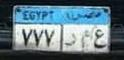7: (44, 28, 57, 48), (33, 28, 44, 48), (22, 26, 32, 47)
ain: (93, 28, 107, 50)
meem: (79, 28, 91, 50)
raa: (63, 31, 77, 49)
